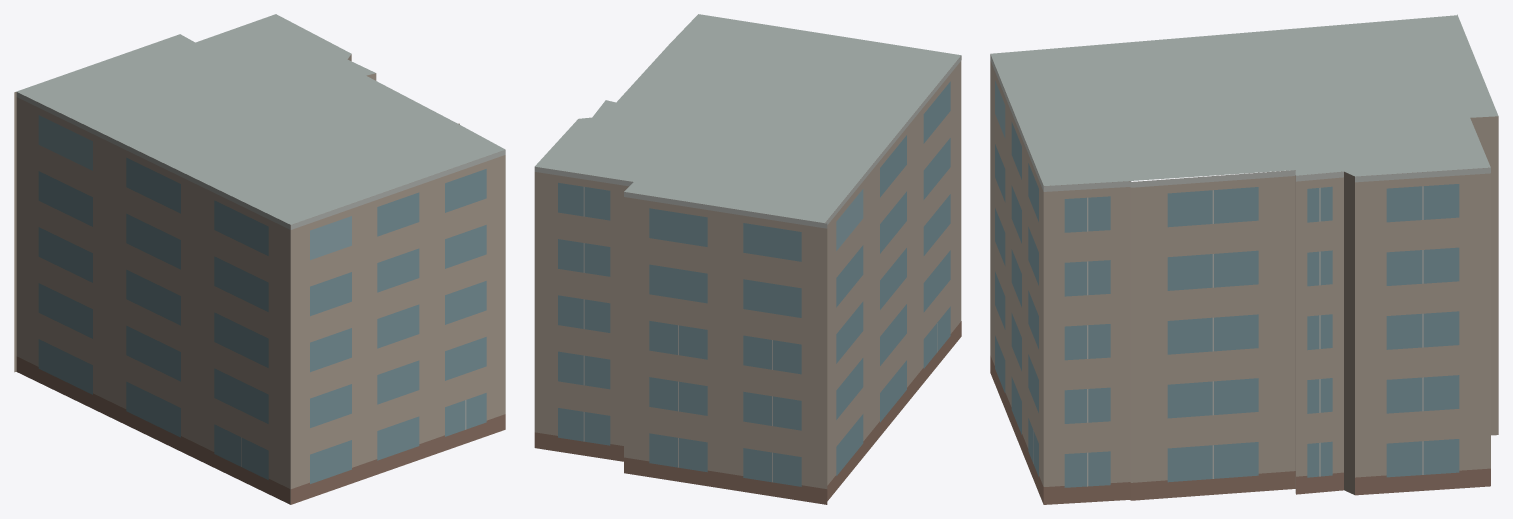
File: survey-upis-32676471.glb
The picture shows the model from 3 angles, left to right: view 1: azimuth 30°, elevation 25°; view 2: azimuth 150°, elevation 25°; view 3: azimuth 270°, elevation 25°; orthographic projection. The views are drawn at different scales.
Visible parts, largest first — view 1: survey-upis-32676471.tmp; view 2: survey-upis-32676471.tmp; view 3: survey-upis-32676471.tmp.
Part boxes in pixels (bbox=[...]): survey-upis-32676471.tmp: bbox=[14, 14, 505, 504]; survey-upis-32676471.tmp: bbox=[534, 14, 961, 504]; survey-upis-32676471.tmp: bbox=[990, 14, 1498, 504].
Size of the model in its own units: 15.41 by 13.3 by 19.23.
